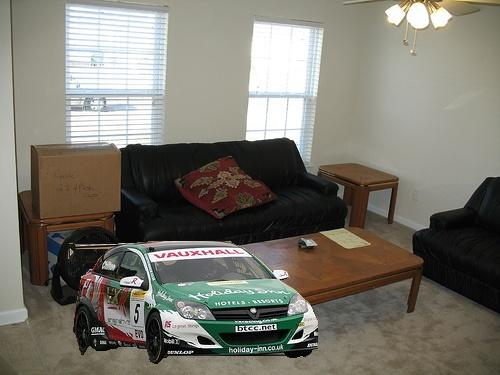tampered: (69, 242, 318, 364)
